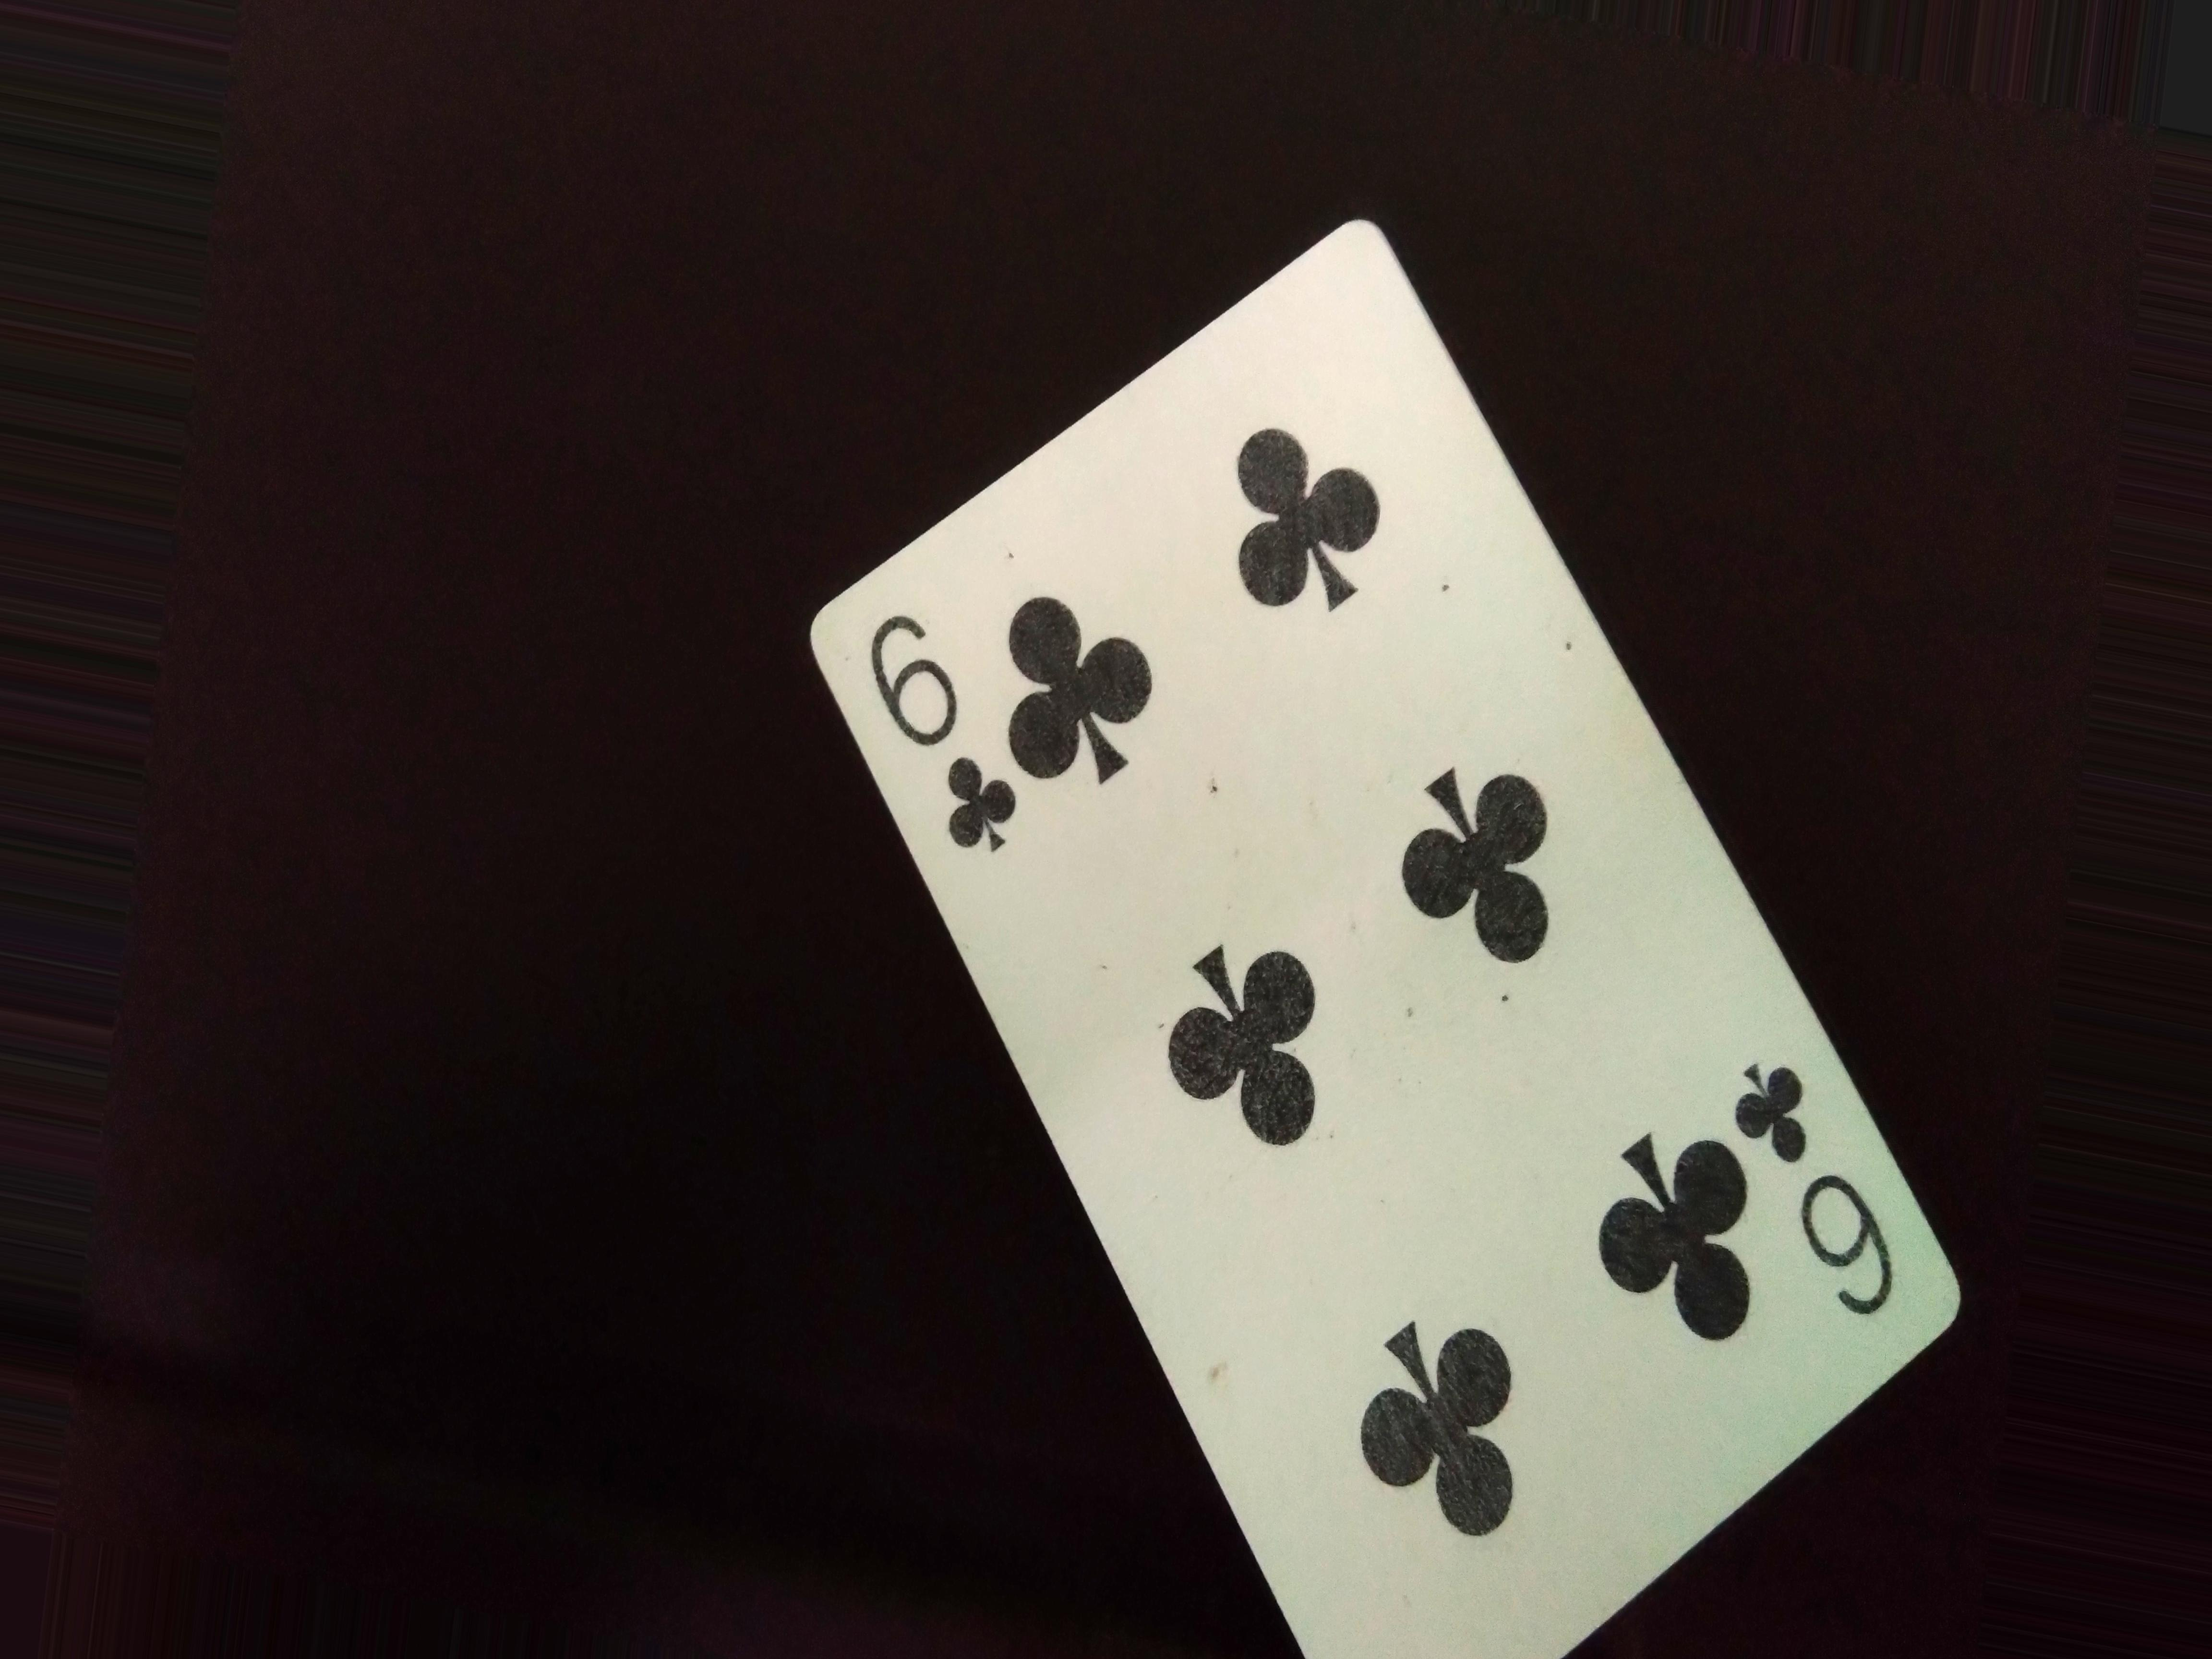6C: (859, 606, 1035, 857)
